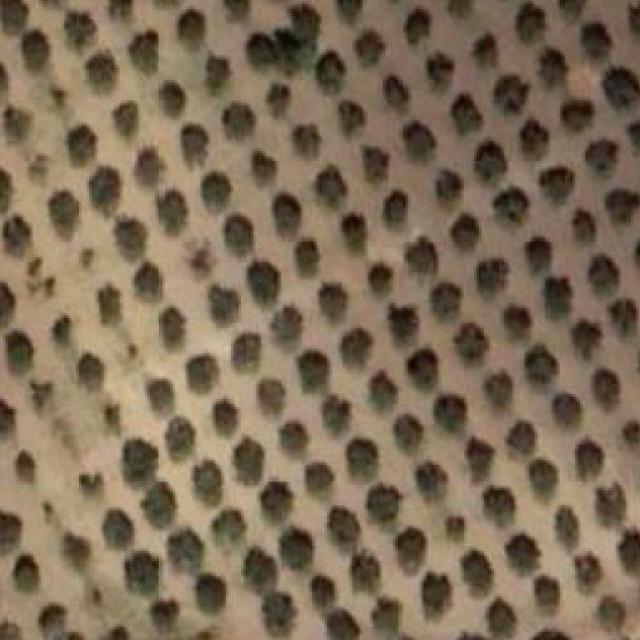Tree: (119, 553, 165, 599), (54, 530, 99, 576), (107, 212, 150, 259), (117, 440, 160, 486), (596, 65, 640, 109), (239, 549, 282, 593), (274, 529, 317, 573), (321, 505, 366, 547), (491, 73, 535, 115), (230, 438, 266, 487), (122, 262, 168, 300), (160, 417, 201, 459), (448, 90, 486, 134), (583, 136, 621, 180), (104, 507, 140, 553), (269, 191, 307, 234), (48, 186, 82, 234), (262, 591, 297, 637), (222, 336, 263, 375), (472, 136, 509, 179), (153, 301, 190, 344), (188, 463, 228, 502), (245, 262, 282, 304), (267, 303, 304, 345), (257, 480, 294, 522), (141, 485, 177, 528), (184, 353, 219, 397), (145, 596, 185, 634), (334, 326, 370, 368), (406, 348, 444, 387), (198, 169, 236, 208), (0, 214, 39, 252), (578, 19, 613, 61), (17, 32, 52, 74), (277, 422, 312, 464), (285, 2, 327, 37), (293, 347, 327, 390), (63, 121, 97, 164), (535, 574, 568, 618), (399, 120, 438, 157), (368, 485, 405, 524), (191, 574, 228, 613), (367, 596, 403, 636), (431, 392, 466, 433), (170, 7, 211, 42), (433, 169, 467, 211), (495, 186, 532, 224), (166, 531, 203, 569), (482, 485, 517, 525), (474, 255, 511, 292), (85, 53, 122, 90), (449, 212, 484, 251), (302, 458, 337, 497), (591, 367, 624, 408), (92, 166, 125, 207), (287, 124, 324, 160), (197, 53, 231, 92), (420, 571, 450, 615), (211, 286, 244, 326), (513, 2, 545, 43), (158, 186, 190, 227), (224, 210, 256, 251), (109, 103, 143, 141), (217, 510, 251, 548), (0, 103, 34, 141), (481, 369, 514, 408), (307, 571, 340, 610), (134, 149, 168, 186), (70, 353, 104, 390), (350, 556, 383, 594), (376, 68, 408, 107), (526, 348, 558, 387), (528, 455, 560, 494), (128, 29, 160, 68), (424, 53, 459, 88), (432, 280, 467, 315), (563, 97, 599, 131), (145, 379, 178, 416), (541, 275, 570, 317), (465, 546, 497, 584), (177, 124, 207, 164), (544, 166, 578, 201), (569, 556, 604, 590), (315, 168, 349, 203), (364, 369, 398, 404), (156, 80, 190, 115), (597, 483, 626, 524), (95, 283, 122, 327), (219, 100, 251, 137), (405, 7, 436, 45), (610, 295, 640, 334), (457, 323, 486, 363), (521, 235, 555, 269), (314, 47, 347, 82), (323, 609, 360, 640), (388, 303, 418, 341), (243, 29, 273, 67), (607, 191, 640, 225), (9, 556, 42, 590), (466, 439, 494, 479), (358, 144, 390, 179), (511, 531, 542, 567), (410, 240, 441, 276), (248, 149, 279, 185), (577, 439, 606, 477), (489, 601, 517, 640), (342, 210, 373, 245), (322, 397, 352, 433), (1, 331, 30, 368), (570, 318, 598, 356), (353, 26, 385, 59), (293, 239, 325, 272), (415, 463, 446, 497), (35, 601, 66, 635), (383, 191, 410, 230), (598, 598, 628, 633), (518, 120, 547, 156), (396, 529, 425, 565), (212, 397, 241, 433), (263, 83, 291, 120), (552, 394, 582, 428), (71, 472, 101, 506), (11, 450, 41, 484), (538, 50, 567, 85), (589, 255, 617, 291), (508, 419, 535, 456), (0, 0, 29, 34), (367, 262, 395, 297), (347, 439, 375, 474), (64, 12, 91, 48), (332, 98, 363, 129), (389, 417, 420, 448), (320, 285, 349, 318), (184, 247, 212, 281), (552, 507, 580, 540), (255, 379, 283, 412), (52, 308, 79, 342), (618, 530, 640, 571), (441, 514, 471, 544), (0, 510, 24, 544), (470, 37, 496, 67), (572, 212, 596, 244), (0, 285, 16, 333), (25, 379, 51, 407), (96, 622, 132, 640), (0, 616, 27, 640), (0, 402, 18, 437), (106, 0, 138, 19), (503, 308, 527, 333), (0, 169, 13, 215), (628, 118, 640, 154), (557, 0, 585, 15), (623, 419, 640, 442), (530, 632, 578, 640), (631, 0, 640, 39), (49, 630, 82, 640)
